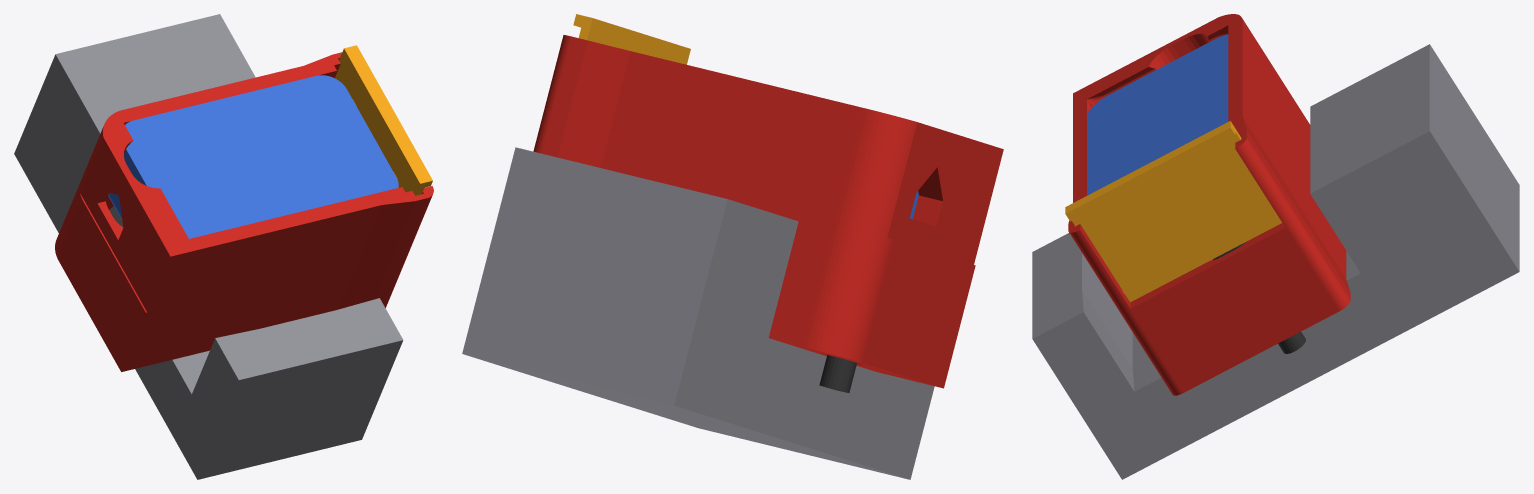
File: dragy_assembly_v8.obj
3 renders of one model, left to right at view 1: azimuth 30°, elevation 25°; view 2: azimuth 150°, elevation 25°; view 3: azimuth 270°, elevation 25°, orthographic. The views are drawn at different scales.
Parts seen in each view (by area): view 1: front_swingarm_pad_schematic, dragy_holder, dragy, gate; view 2: front_swingarm_pad_schematic, dragy_holder, gate, screws; view 3: front_swingarm_pad_schematic, dragy_holder, gate, dragy.
Boxes of the visible parts, left/top/right/bottom form: front_swingarm_pad_schematic: left=14, top=14, right=403, bottom=479; dragy_holder: left=55, top=52, right=433, bottom=371; dragy: left=108, top=75, right=398, bottom=238; gate: left=335, top=45, right=432, bottom=195; front_swingarm_pad_schematic: left=462, top=147, right=934, bottom=479; dragy_holder: left=533, top=35, right=1003, bottom=388; gate: left=573, top=14, right=690, bottom=64; screws: left=819, top=355, right=856, bottom=392; front_swingarm_pad_schematic: left=1032, top=44, right=1519, bottom=479; dragy_holder: left=1068, top=14, right=1350, bottom=395; gate: left=1065, top=121, right=1281, bottom=302; dragy: left=1087, top=34, right=1228, bottom=195.
Bounding box in the file's own units: 51.2 × 63.68 × 74.76.
